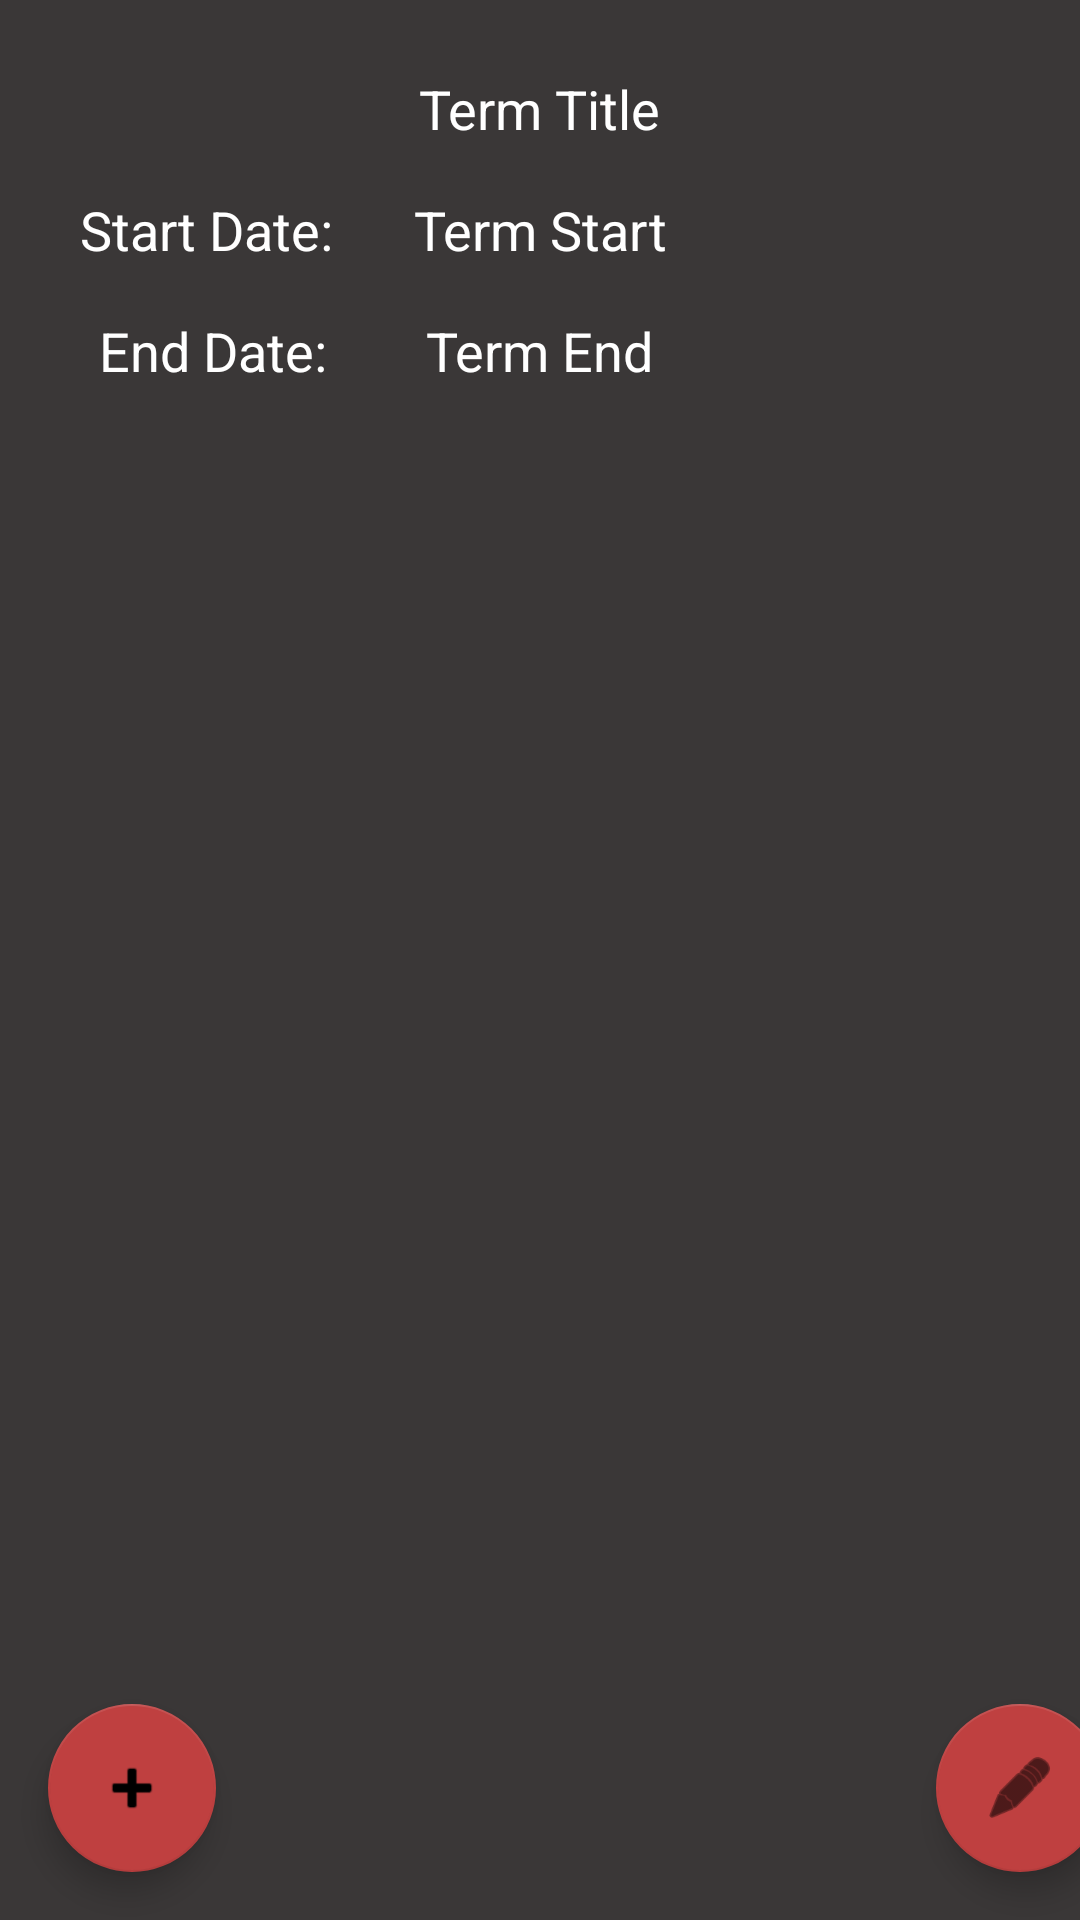

Screen size 1080 × 1920. Icon name, then its center in pixels as (x,y):
add: (132,1788)
